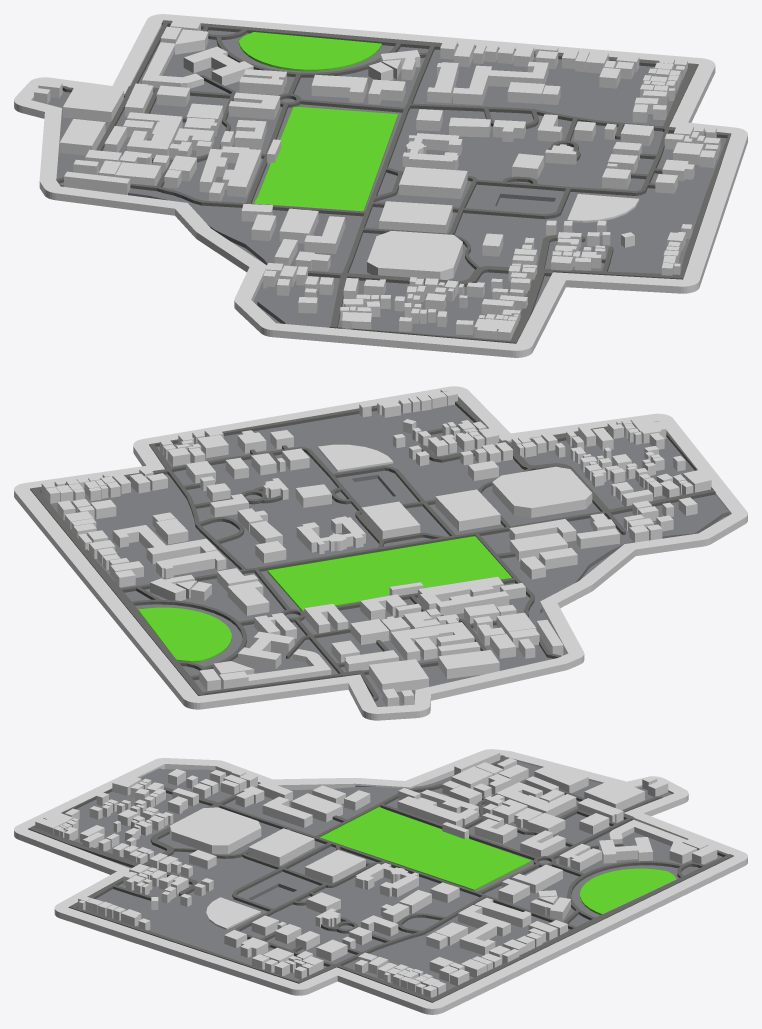
Rendered from CentralMap.glb.
The picture shows the model from 3 angles, top to bottom: view 1: azimuth 30°, elevation 25°; view 2: azimuth 150°, elevation 25°; view 3: azimuth 270°, elevation 25°; orthographic projection. The views are drawn at different scales.
Visible parts, largest first — view 1: Map_Floor, Building_Background, Map_Outline, Map_Roads, Field_BigField, Field_HalfMoon, Building_UniversityGym, Building_Elementary, Building_JuniorHigh, Building_Engineering, Building_RoseMemorial, Building_Library (+20 smaller); view 2: Map_Floor, Building_Background, Map_Outline, Map_Roads, Field_BigField, Building_UniversityGym, Field_HalfMoon, Building_Elementary, Building_JuniorHigh, Building_Engineering, Building_RoseMemorial, Building_MaryThomas (+17 smaller); view 3: Building_Background, Map_Floor, Map_Outline, Map_Roads, Field_BigField, Building_UniversityGym, Field_HalfMoon, Building_Elementary, Building_Engineering, Building_JuniorHigh, Building_RoseMemorial, Building_LDT (+19 smaller).
Part boxes in pixels (box(x1,y1,x2,y2)): Map_Floor: box(32, 26, 726, 337); Building_Background: box(34, 20, 720, 340); Map_Outline: box(14, 14, 747, 357); Map_Roads: box(56, 20, 731, 343); Field_BigField: box(254, 106, 398, 211); Field_HalfMoon: box(238, 32, 381, 71); Building_UniversityGym: box(367, 231, 462, 279); Building_Elementary: box(427, 61, 548, 104); Building_JuniorHigh: box(104, 112, 182, 157); Building_Engineering: box(199, 146, 261, 197); Building_RoseMemorial: box(379, 201, 452, 233); Building_Library: box(399, 166, 467, 198); Map_Floor: box(44, 404, 728, 706); Building_Background: box(41, 388, 711, 706); Map_Outline: box(14, 386, 747, 720); Map_Roads: box(30, 396, 715, 701); Field_BigField: box(267, 536, 511, 611); Building_UniversityGym: box(492, 466, 592, 517); Field_HalfMoon: box(138, 607, 231, 662); Building_Elementary: box(112, 525, 226, 578); Building_JuniorHigh: box(391, 622, 480, 660); Building_Engineering: box(418, 576, 509, 615); Building_RoseMemorial: box(435, 489, 500, 531); Building_MaryThomas: box(219, 649, 331, 688); Building_Background: box(35, 750, 717, 997); Map_Floor: box(73, 758, 722, 990); Map_Outline: box(14, 749, 747, 1014); Map_Roads: box(28, 755, 733, 1002); Field_BigField: box(320, 807, 531, 890); Building_UniversityGym: box(170, 807, 261, 853); Field_HalfMoon: box(580, 868, 676, 914); Building_Elementary: box(458, 897, 531, 955); Building_Engineering: box(397, 789, 478, 826); Building_JuniorHigh: box(496, 776, 576, 816); Building_RoseMemorial: box(248, 828, 314, 865); Building_LDT: box(355, 863, 418, 897).
Bounding box in the file's own units: 0.1306 × 0.00305 × 0.156.
